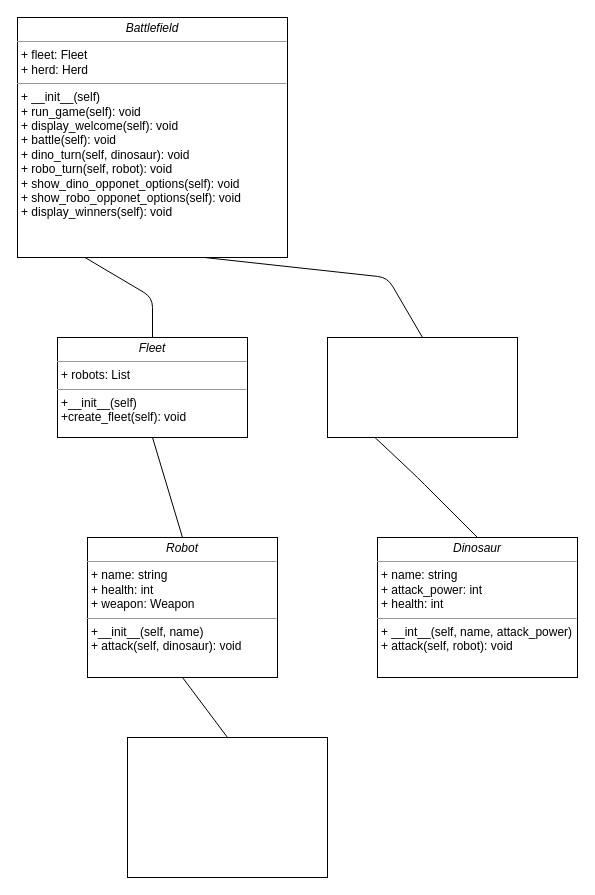
Image size: 595x895. Some labels were removed from this diagram. Each missing label, with the box of its shape:
Herd + dinosaurs : List + __init__(self) + create_herd(self): void: (326, 336, 518, 438)
Weapon + name: string + attack_power: in +__init__(self, name, attack_power): (126, 736, 328, 878)
